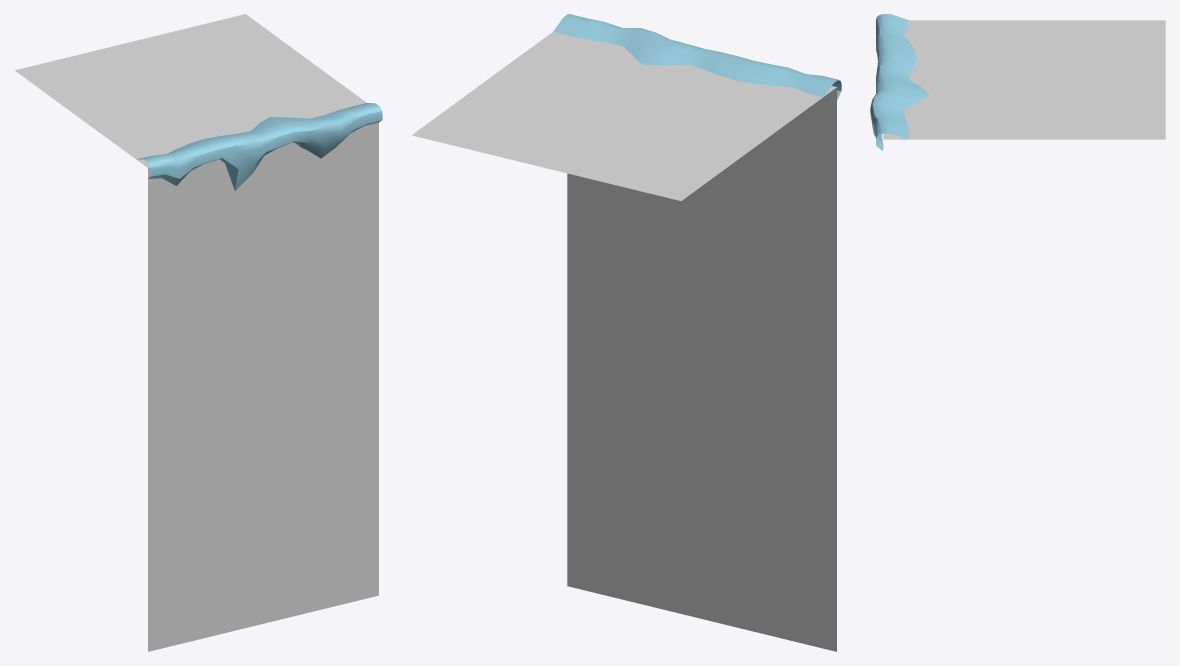
File: Wall_NoSides_Snow.fbx
3 renders of one model, left to right at view 1: azimuth 30°, elevation 25°; view 2: azimuth 150°, elevation 25°; view 3: azimuth 270°, elevation 25°, orthographic. The views are drawn at different scales.
Parts seen in each view (by area): view 1: Wall_NoSides_Snow; view 2: Wall_NoSides_Snow; view 3: Wall_NoSides_Snow.
Boxes of the visible parts, x1=… form: Wall_NoSides_Snow: x1=15, y1=14, x2=382, y2=651; Wall_NoSides_Snow: x1=412, y1=14, x2=841, y2=651; Wall_NoSides_Snow: x1=870, y1=14, x2=1165, y2=150.
Size of the model in its own units: 333 by 674 by 348.
